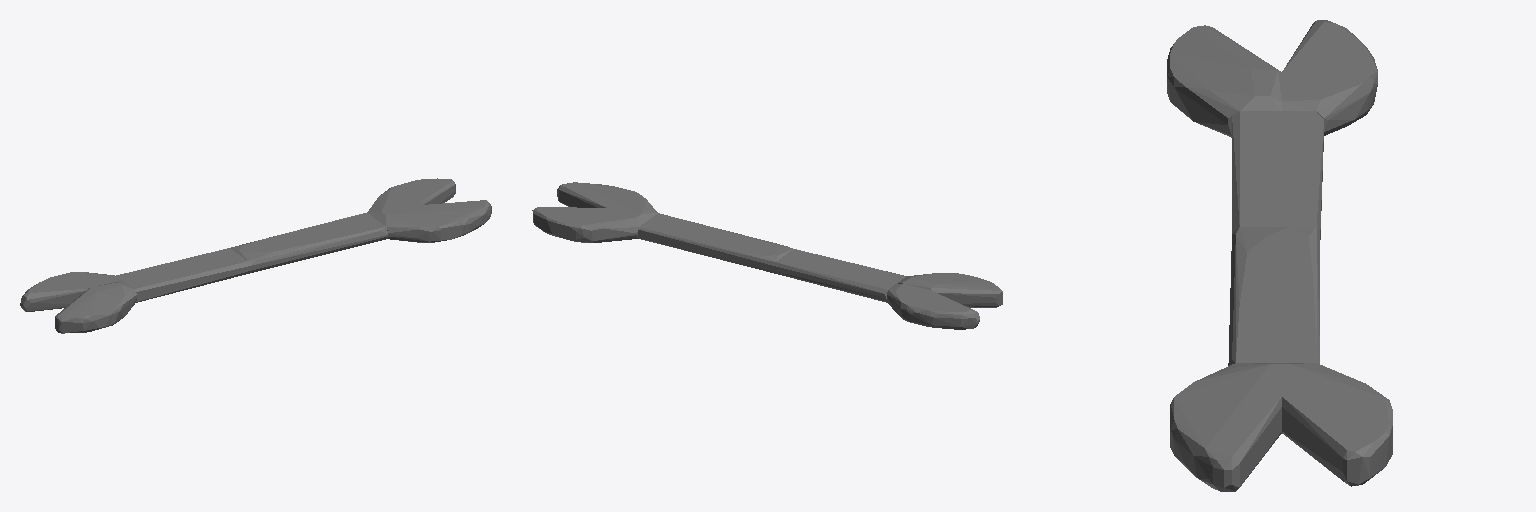
URDF robot description (wrench_017):
<?xml version="1.0" ?>
<robot name="wrench_017">
  <material name="color">
    <color rgba=".5 .5 .5 1"/>
  </material>

  <link name="base_link">
    <contact>
      <lateral_friction value="1.0"/>
      <rolling_friction value="0.001"/>
      <spinning_friction value="0.001"/>
      <inertia_scaling value="1.0"/>
    </contact>
    <inertial>
      <origin rpy="0 0 0" xyz="0.00125859 -0.000810821 -0.000384213"/>
       <mass value="0.1"/>
       <inertia ixx="1" ixy="0" ixz="0" iyy="1" iyz="0" izz="1"/>
    </inertial>

    <visual>
      <origin rpy="0 0 0" xyz="0 0 0"/>
      <geometry>
        <mesh filename="wrench_017_vhacd_0_of_6.obj" scale="1 1 1"/>
      </geometry>
      <material name="color"/>
    </visual>
    <visual>
      <origin rpy="0 0 0" xyz="0 0 0"/>
      <geometry>
        <mesh filename="wrench_017_vhacd_1_of_6.obj" scale="1 1 1"/>
      </geometry>
      <material name="color"/>
    </visual>
    <visual>
      <origin rpy="0 0 0" xyz="0 0 0"/>
      <geometry>
        <mesh filename="wrench_017_vhacd_2_of_6.obj" scale="1 1 1"/>
      </geometry>
      <material name="color"/>
    </visual>
    <visual>
      <origin rpy="0 0 0" xyz="0 0 0"/>
      <geometry>
        <mesh filename="wrench_017_vhacd_3_of_6.obj" scale="1 1 1"/>
      </geometry>
      <material name="color"/>
    </visual>
    <visual>
      <origin rpy="0 0 0" xyz="0 0 0"/>
      <geometry>
        <mesh filename="wrench_017_vhacd_4_of_6.obj" scale="1 1 1"/>
      </geometry>
      <material name="color"/>
    </visual>
    <visual>
      <origin rpy="0 0 0" xyz="0 0 0"/>
      <geometry>
        <mesh filename="wrench_017_vhacd_5_of_6.obj" scale="1 1 1"/>
      </geometry>
      <material name="color"/>
    </visual>

    <collision>
      <origin rpy="0 0 0" xyz="0 0 0"/>
      <geometry>
        <mesh filename="wrench_017_vhacd_0_of_6.obj" scale="1 1 1"/>
      </geometry>
    </collision>
    <collision>
      <origin rpy="0 0 0" xyz="0 0 0"/>
      <geometry>
        <mesh filename="wrench_017_vhacd_1_of_6.obj" scale="1 1 1"/>
      </geometry>
    </collision>
    <collision>
      <origin rpy="0 0 0" xyz="0 0 0"/>
      <geometry>
        <mesh filename="wrench_017_vhacd_2_of_6.obj" scale="1 1 1"/>
      </geometry>
    </collision>
    <collision>
      <origin rpy="0 0 0" xyz="0 0 0"/>
      <geometry>
        <mesh filename="wrench_017_vhacd_3_of_6.obj" scale="1 1 1"/>
      </geometry>
    </collision>
    <collision>
      <origin rpy="0 0 0" xyz="0 0 0"/>
      <geometry>
        <mesh filename="wrench_017_vhacd_4_of_6.obj" scale="1 1 1"/>
      </geometry>
    </collision>
    <collision>
      <origin rpy="0 0 0" xyz="0 0 0"/>
      <geometry>
        <mesh filename="wrench_017_vhacd_5_of_6.obj" scale="1 1 1"/>
      </geometry>
    </collision>

  </link>
</robot>

--- What the picture shows (computed from the rendered views, not written in the file) ---
Views: 3 orthographic renders of the robot side by side, from view 1: azimuth 30°, elevation 25°; view 2: azimuth 150°, elevation 25°; view 3: azimuth 270°, elevation 25°.
Model wrench_017 with 1 links and 0 joints (none), rooted at base_link, posed all joints at 0.
Links seen in each view (by area): view 1: base_link; view 2: base_link; view 3: base_link.
Boxes of the visible links, left/top/right/bottom form: base_link: left=20, top=178, right=491, bottom=333; base_link: left=532, top=182, right=1002, bottom=329; base_link: left=1167, top=20, right=1392, bottom=491.
Bounding box of the posed robot: 0.1906 × 0.0403 × 0.0089 m (x, y, z).
Meshes: 6 distinct files referenced, 6 mesh visuals loaded (6 OBJ).